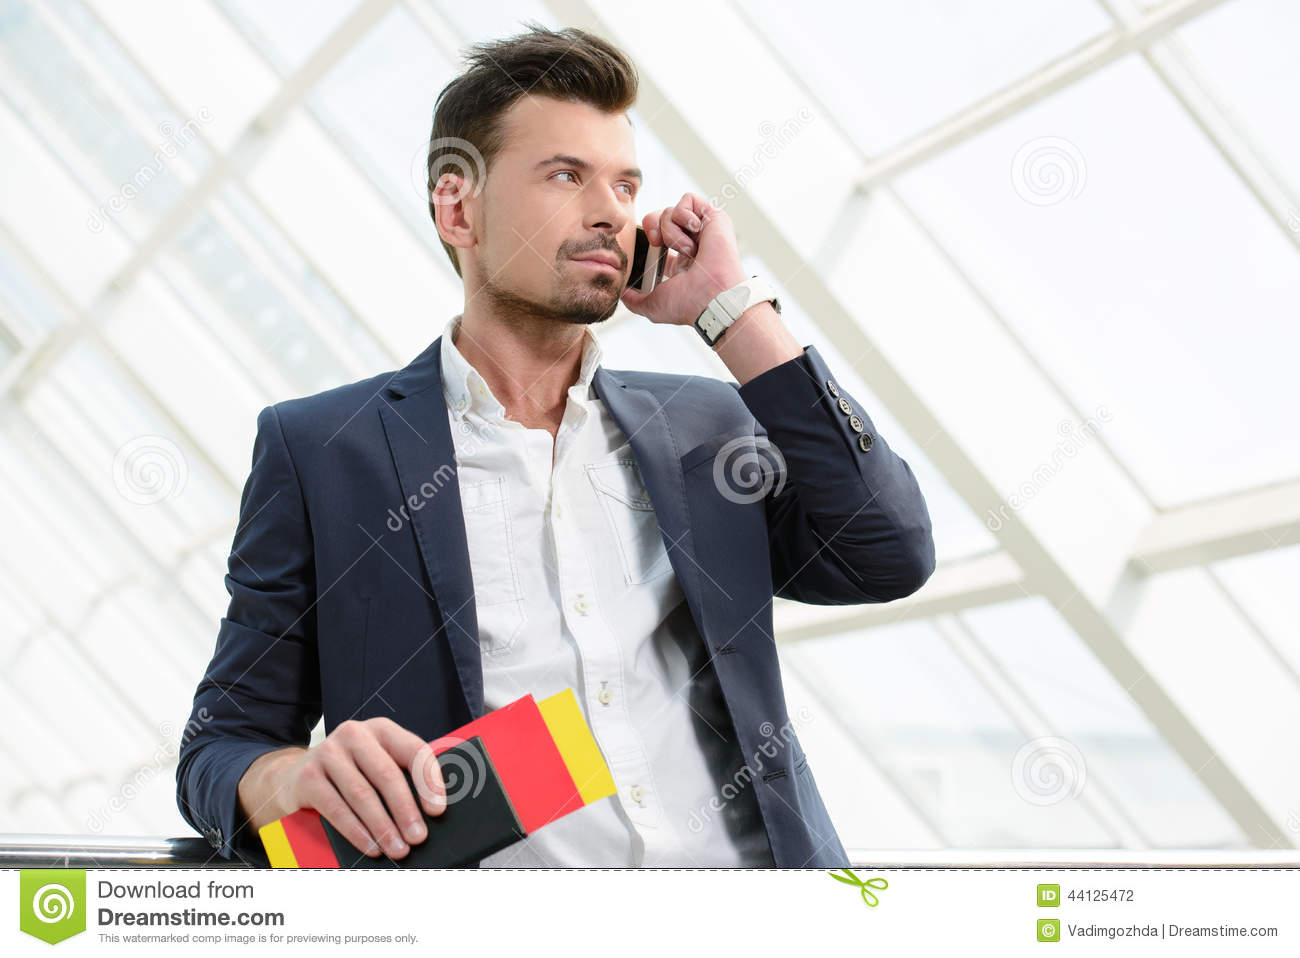talk: (518, 147, 724, 329)
